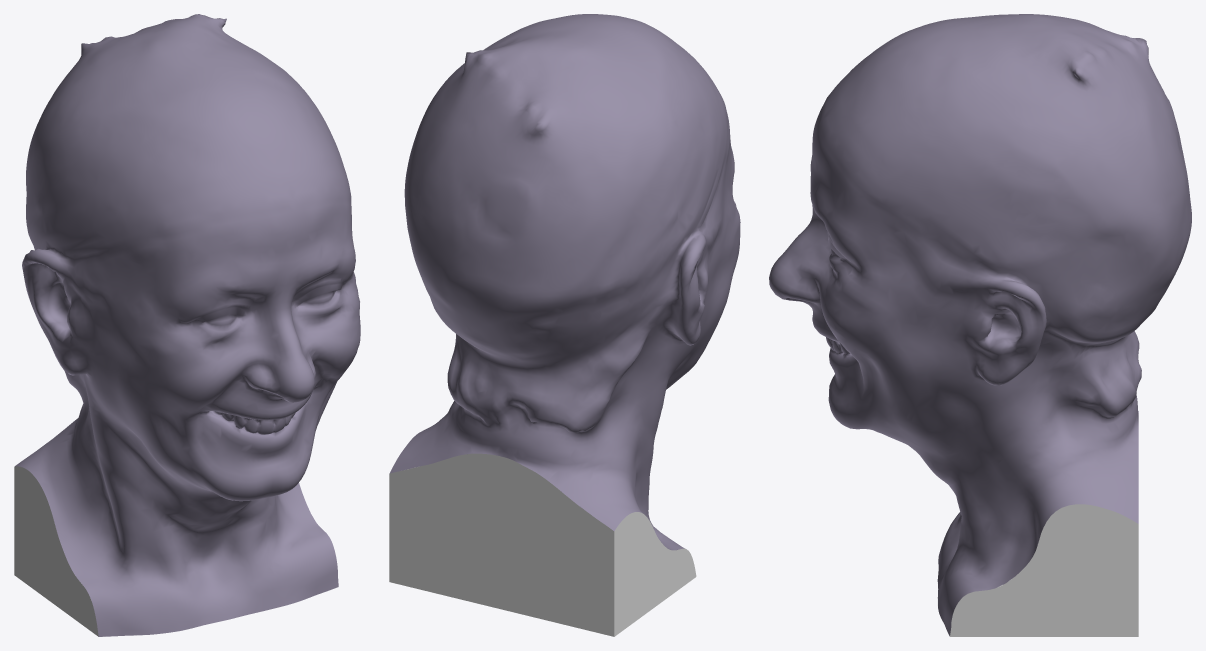
File: 石膏头像_女老年_20260324195414_opt.glb
The picture shows the model from 3 angles, left to right: view 1: azimuth 30°, elevation 25°; view 2: azimuth 150°, elevation 25°; view 3: azimuth 270°, elevation 25°; orthographic projection. The views are drawn at different scales.
Visible parts, largest first — view 1: OWS_UV_LOW, OWS_UV_LOW002; view 2: OWS_UV_LOW, OWS_UV_LOW002; view 3: OWS_UV_LOW, OWS_UV_LOW002.
Part boxes in pixels (bbox=[...]): OWS_UV_LOW: bbox=[15, 14, 360, 636]; OWS_UV_LOW002: bbox=[14, 466, 281, 636]; OWS_UV_LOW: bbox=[389, 14, 740, 550]; OWS_UV_LOW002: bbox=[389, 453, 696, 636]; OWS_UV_LOW: bbox=[769, 14, 1191, 636]; OWS_UV_LOW002: bbox=[937, 504, 1138, 636].
Bounding box in the file's own units: 0.2237 × 0.4 × 0.2768.
